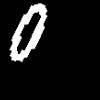chain: (10, 4, 46, 60)
